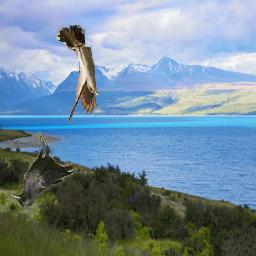Crow: (11, 133, 73, 208)
Cuckoo: (57, 25, 100, 123)
